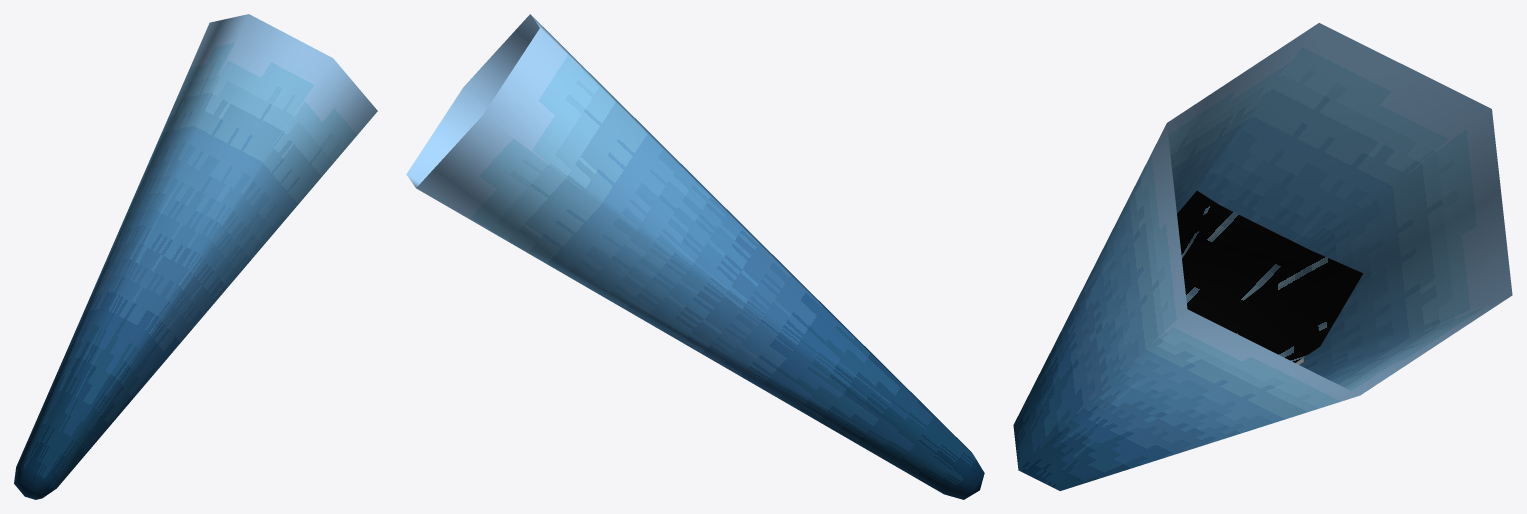
3 views of the same model, side by side, from view 1: azimuth 30°, elevation 25°; view 2: azimuth 150°, elevation 25°; view 3: azimuth 270°, elevation 25° (orthographic). The views are drawn at different scales.
Parts seen in each view (by area): view 1: 3285IMIG05_11; view 2: 3285IMIG05_11; view 3: 3285IMIG05_11.
Part boxes in pixels (x1=…): 3285IMIG05_11: x1=14, y1=14, x2=377, y2=499; 3285IMIG05_11: x1=406, y1=14, x2=984, y2=499; 3285IMIG05_11: x1=1013, y1=23, x2=1512, y2=490.
Size of the model in its own units: 1.75 by 1.55 by 0.9526.
3 materials, 3 textured.
